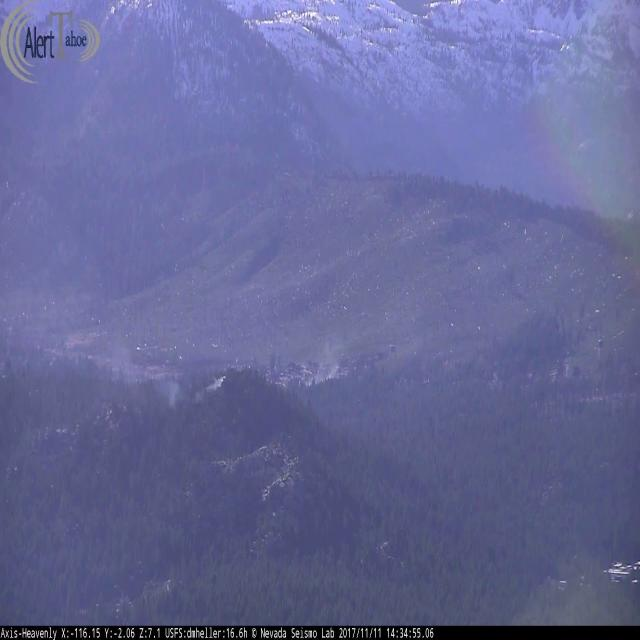smoke: (0, 245, 231, 408), (298, 322, 416, 388)
